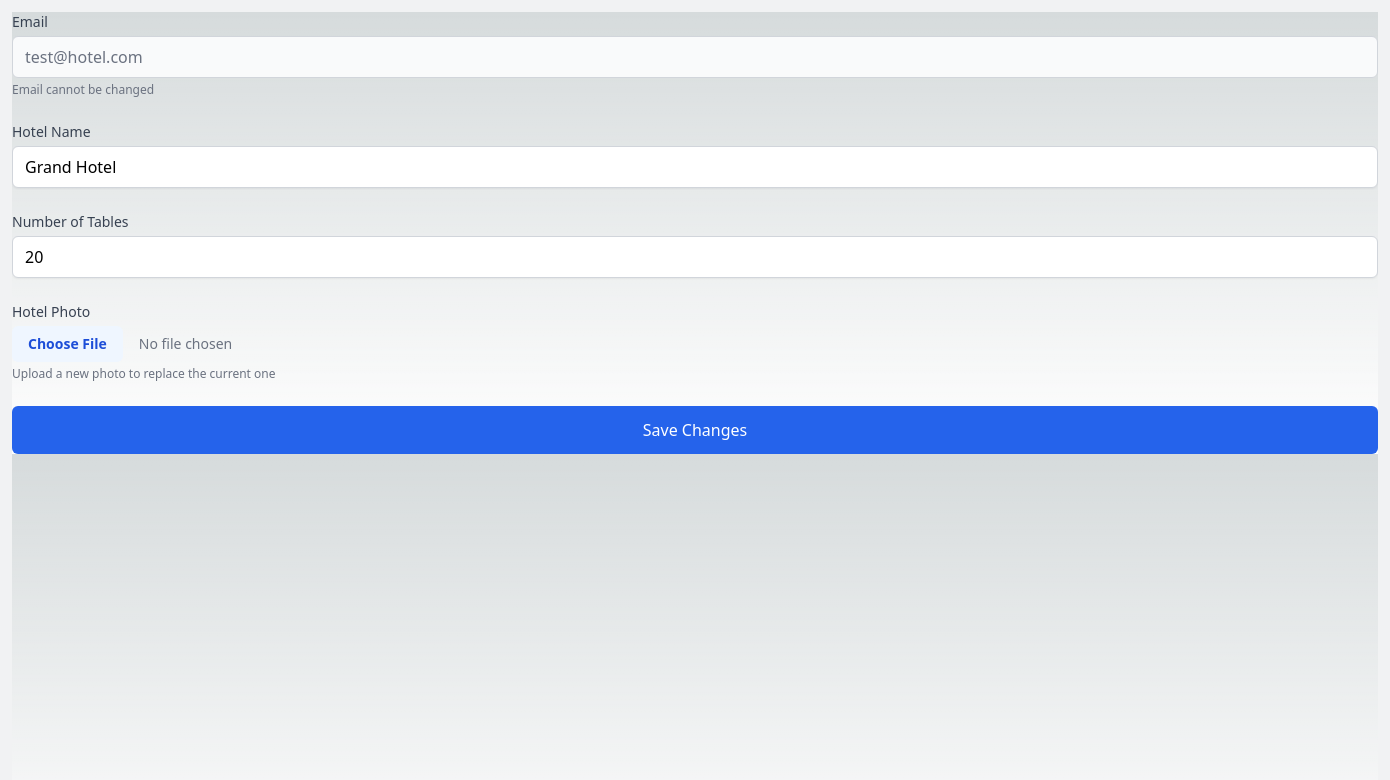
Scenario: ProfileForm › displays validation error for invalid table count
# Clear the input first to trigger validation (NaN error)
Clear the number field labelled "Number of Tables" at (695, 257), box [12, 236, 1378, 278]
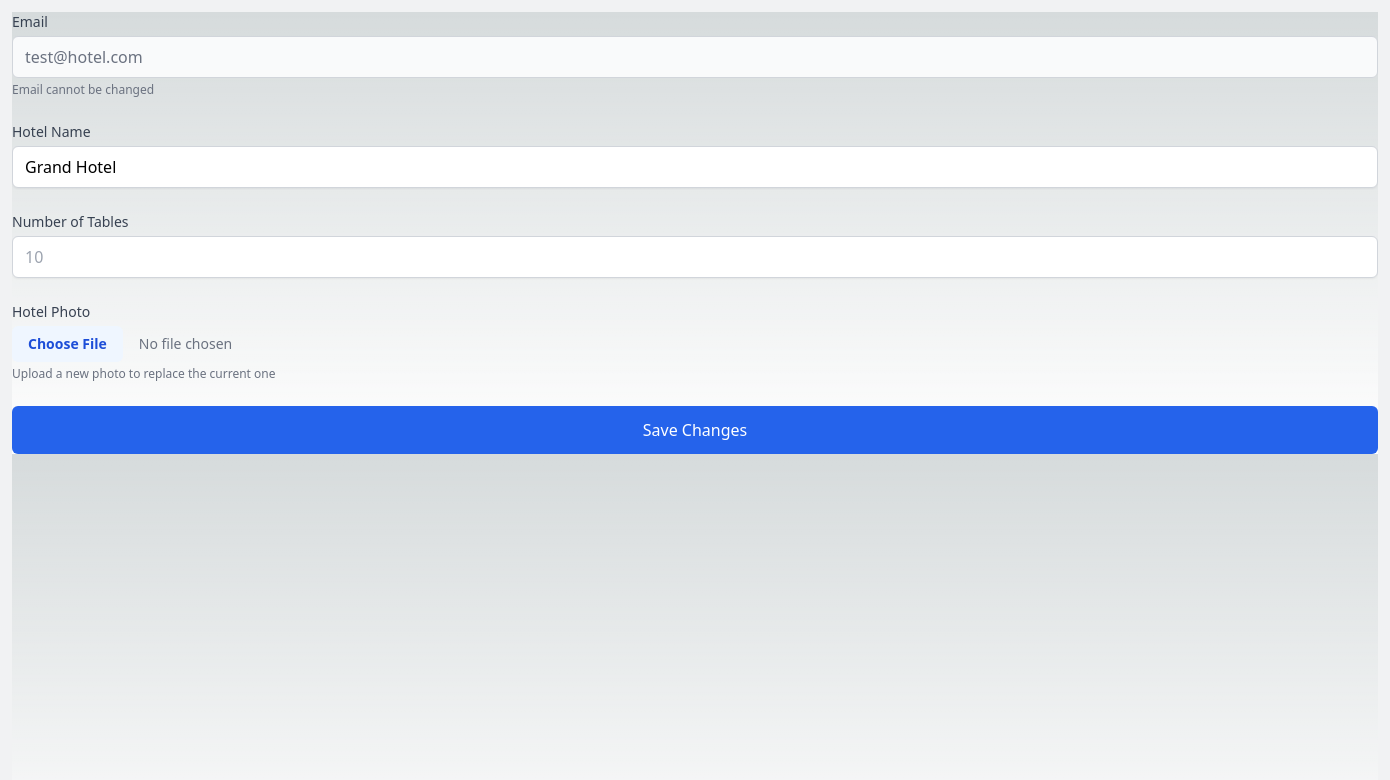
Click the button "Save Changes" at (695, 430), box [12, 406, 1378, 454]
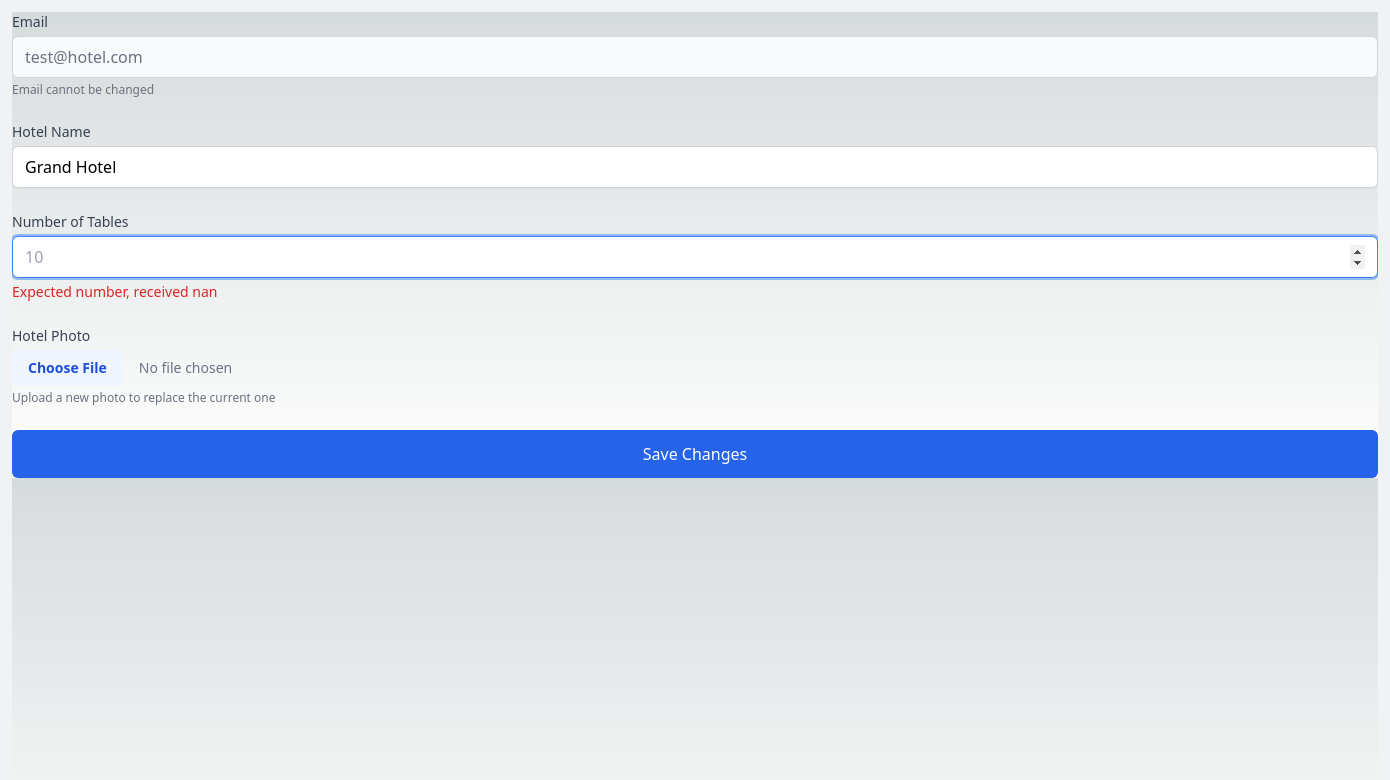
Expected: the text "Expected number, received nan" is shown, [12, 282, 218, 301]
